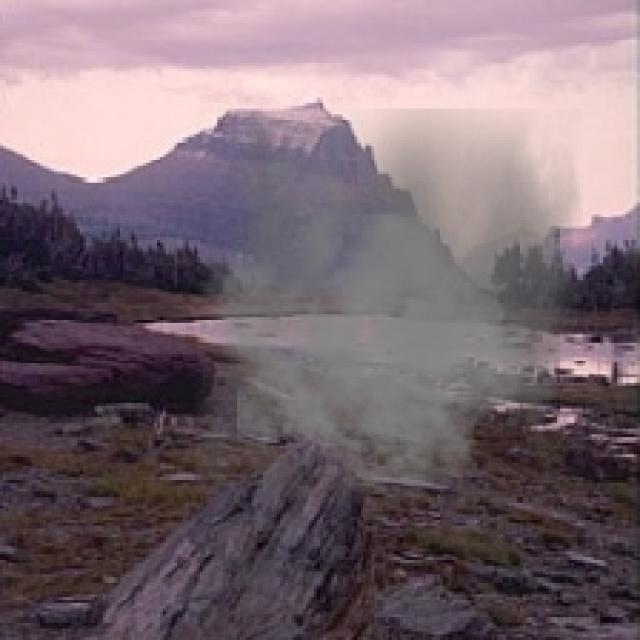smoke: (194, 108, 583, 503)
